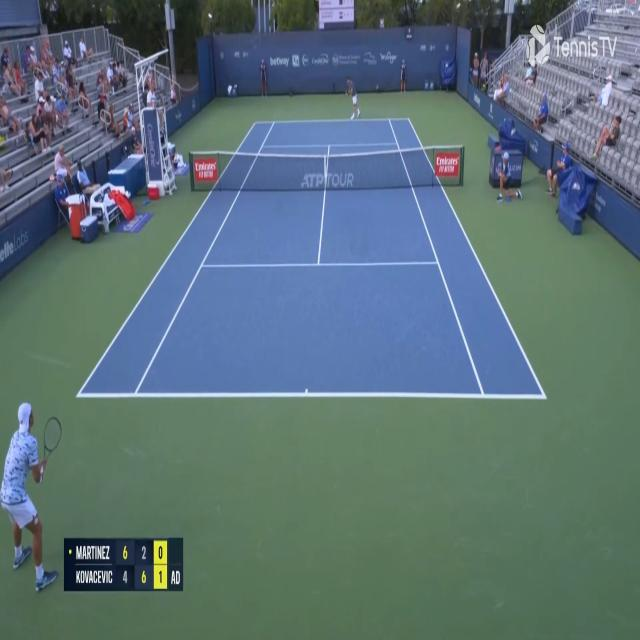tennis-player: (0, 394, 62, 598), (343, 75, 361, 122)
